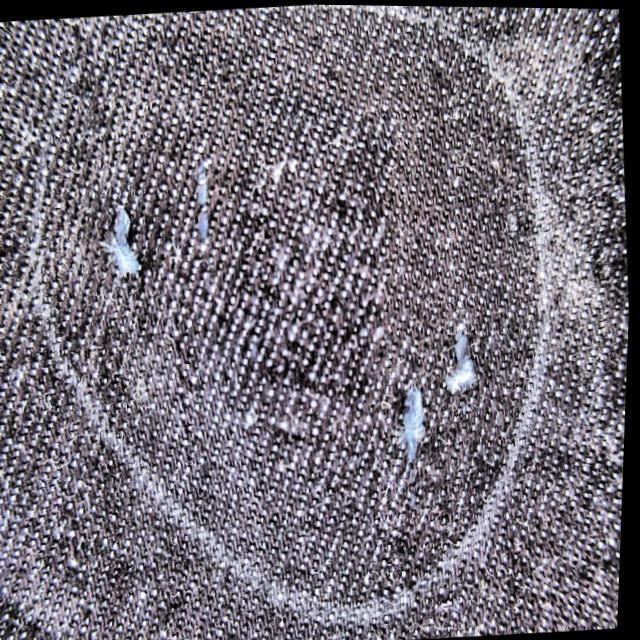Stitch: (97, 179, 154, 293), (388, 368, 444, 483), (437, 297, 493, 411), (182, 140, 232, 262)
